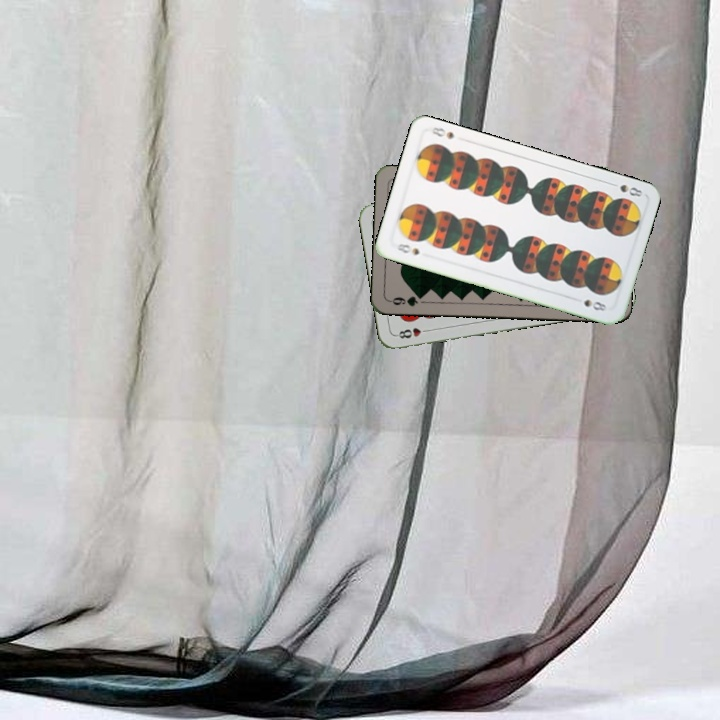G9: (386, 291, 427, 309)
H8: (393, 324, 433, 341)
S8: (605, 178, 645, 199), (393, 239, 422, 258)
